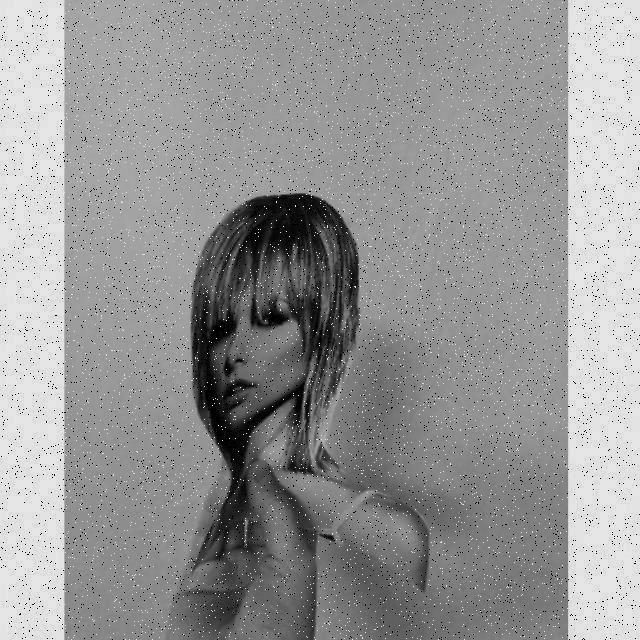fake: (169, 181, 429, 600)
